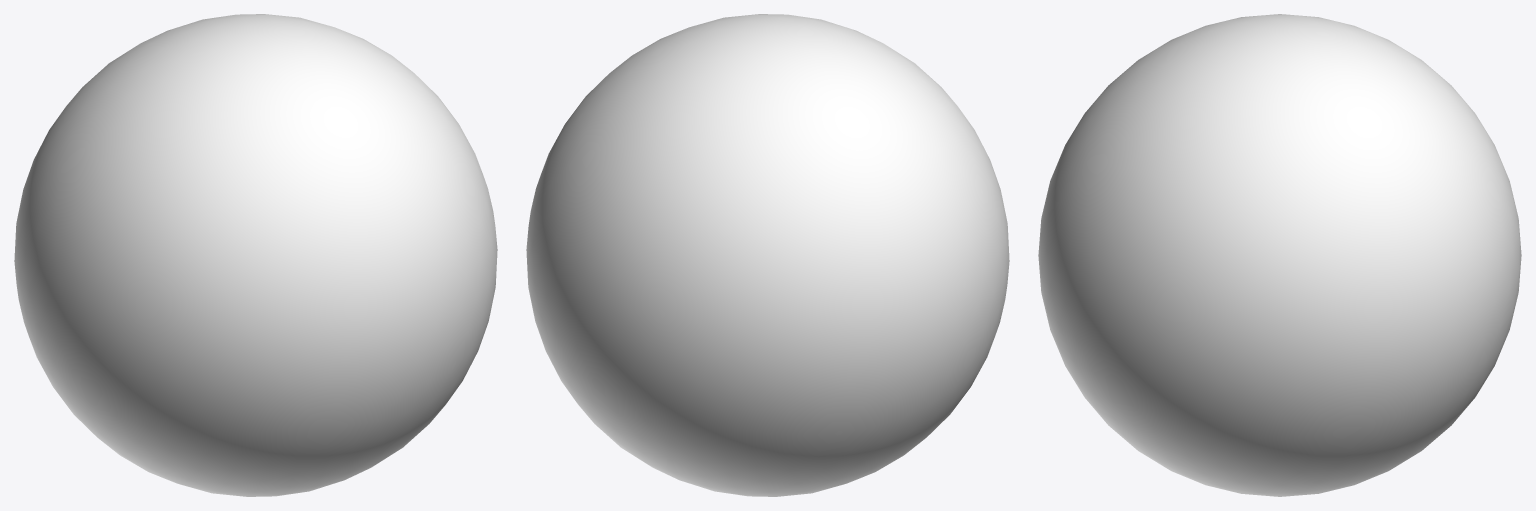
The model's file is white_sphere.gltf.
The picture shows the model from 3 angles, left to right: view 1: azimuth 30°, elevation 25°; view 2: azimuth 150°, elevation 25°; view 3: azimuth 270°, elevation 25°; orthographic projection.
Parts seen in each view (by area): view 1: Icosphere; view 2: Icosphere; view 3: Icosphere.
Boxes of the visible parts, x1=… form: Icosphere: x1=14, y1=14, x2=497, y2=496; Icosphere: x1=526, y1=14, x2=1009, y2=496; Icosphere: x1=1038, y1=14, x2=1521, y2=496.
Size of the model in its own units: 2 by 2 by 2.
1 material, 1 textured.
